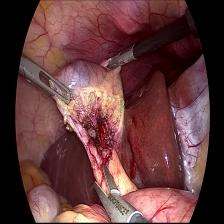Grasper: (91, 162, 140, 224), (20, 55, 72, 107), (103, 41, 137, 72)
